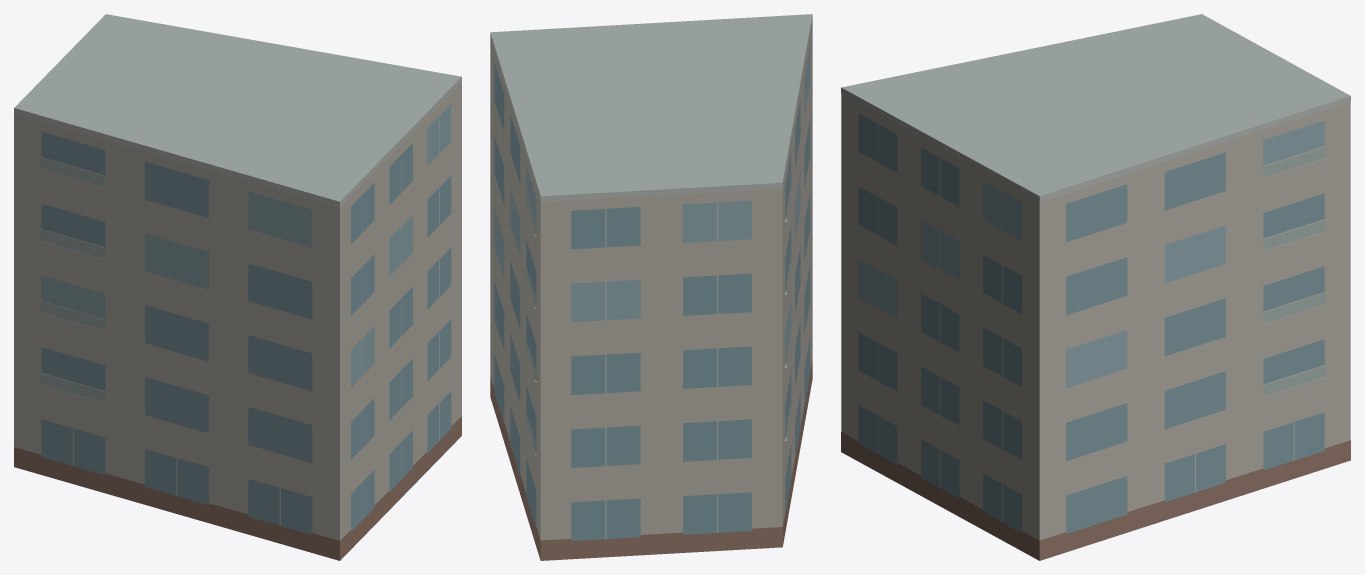
Rendered from survey-upis-32932139.glb.
3 views of the same model, side by side, from view 1: azimuth 30°, elevation 25°; view 2: azimuth 150°, elevation 25°; view 3: azimuth 270°, elevation 25° (orthographic).
Parts seen in each view (by area): view 1: survey-upis-32932139.tmp; view 2: survey-upis-32932139.tmp; view 3: survey-upis-32932139.tmp.
Part boxes in pixels (box(x1,y1,x2,y2)): survey-upis-32932139.tmp: box(14, 14, 461, 560); survey-upis-32932139.tmp: box(490, 14, 812, 560); survey-upis-32932139.tmp: box(841, 14, 1350, 560).
Size of the model in its own units: 15.93 by 14.85 by 18.82.
